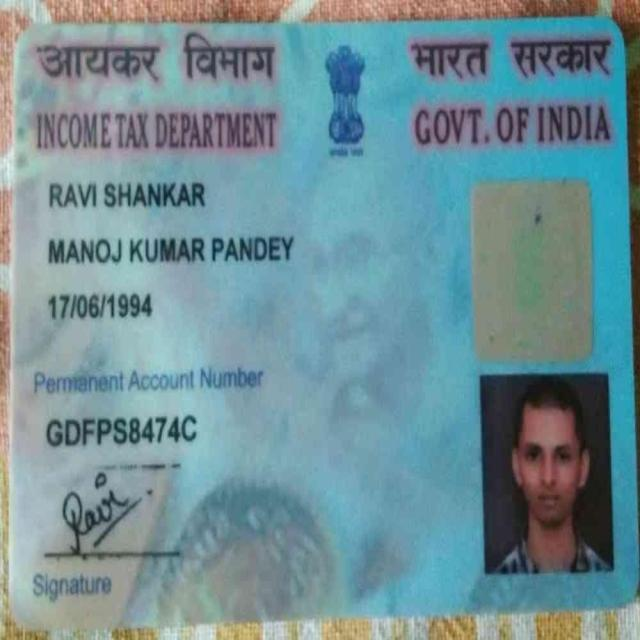pan_card: (12, 25, 634, 606)
